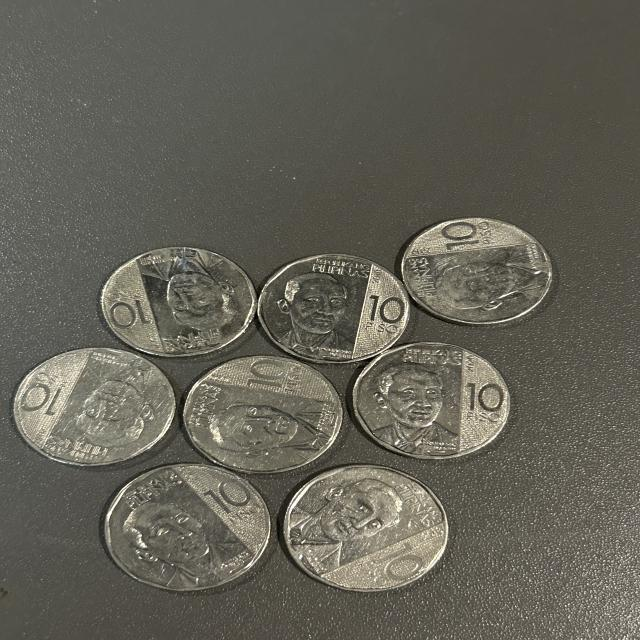10_New_Front: (294, 467, 432, 612), (116, 462, 267, 590), (21, 346, 180, 462), (353, 348, 510, 465), (102, 257, 246, 368), (196, 362, 338, 468), (269, 258, 419, 358), (412, 219, 540, 318)
